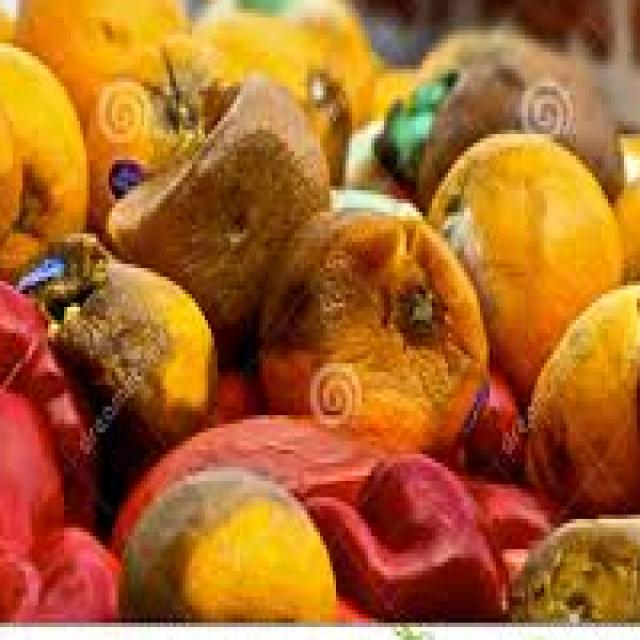inorganic: (4, 4, 640, 615)
